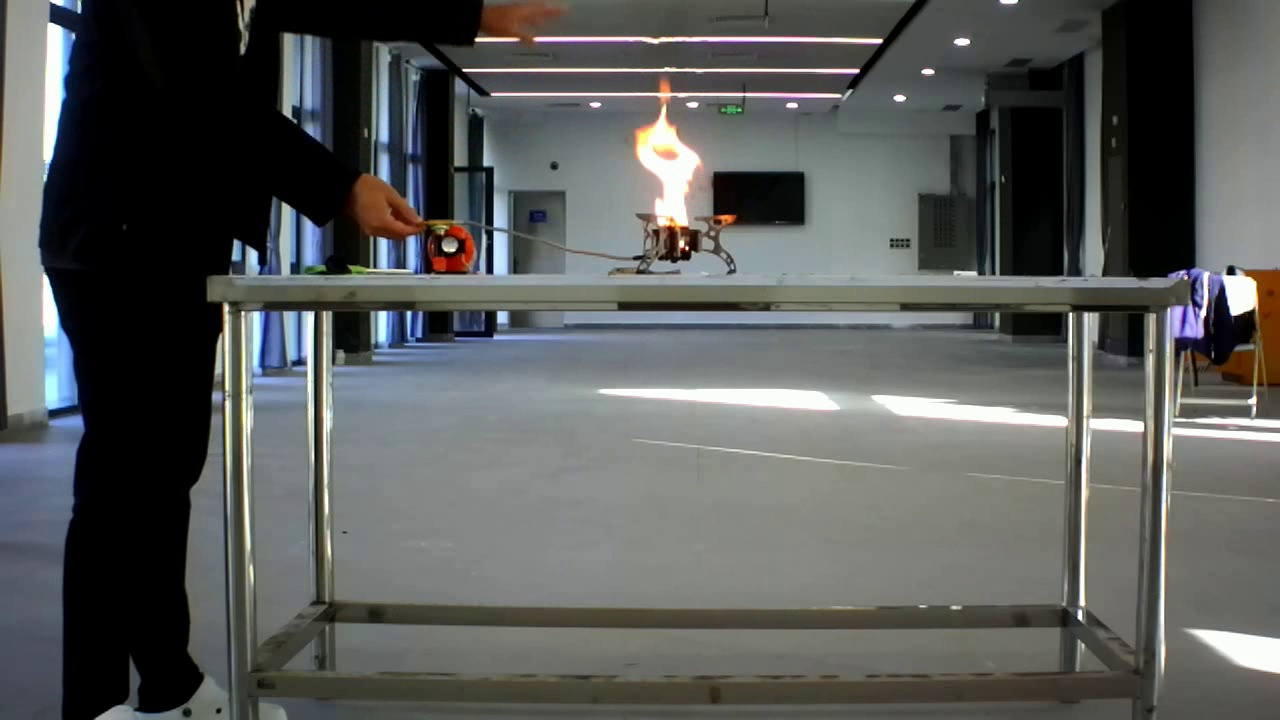Fire: (622, 77, 736, 258)
